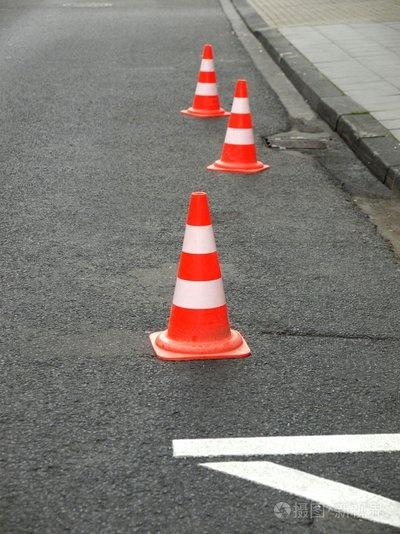cone_barrel: (144, 195, 249, 360), (208, 79, 266, 173), (179, 44, 224, 117)
